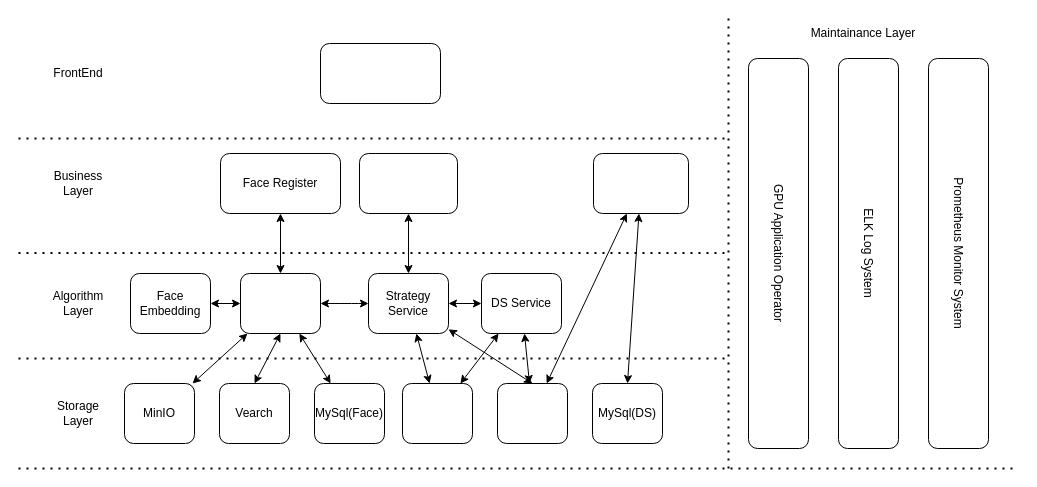
The diagram is 1037 pixels wide and 487 high, and some of its shapes have lost their labels. The centre of each missing label's shape, as x and y in pixels:
"Device Management" goes at pixel 640 183.
"Face Service" goes at pixel 280 303.
"Kafka" goes at pixel 437 413.
"Security Management" goes at pixel 408 183.
"VUE App" goes at pixel 380 73.
"Zookeeper" goes at pixel 532 413.
